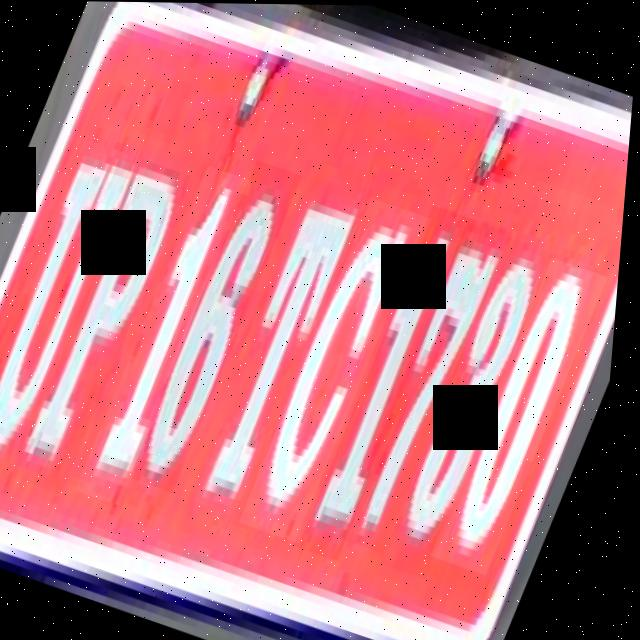0: (439, 255, 613, 575)
1: (302, 203, 481, 562), (83, 164, 257, 507)
3: (388, 236, 563, 579)
6: (135, 159, 305, 494)
7: (346, 215, 518, 553)
C: (246, 196, 436, 544)
P: (19, 158, 194, 495)
T: (189, 177, 371, 516)
U: (0, 130, 147, 476)
